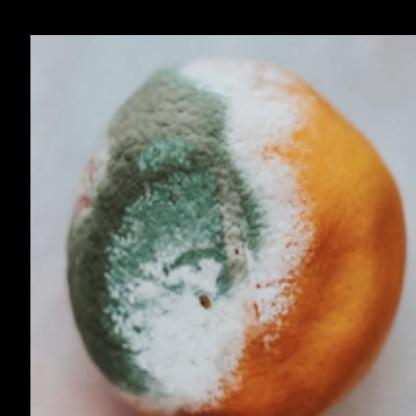rotten: (68, 57, 413, 416)
